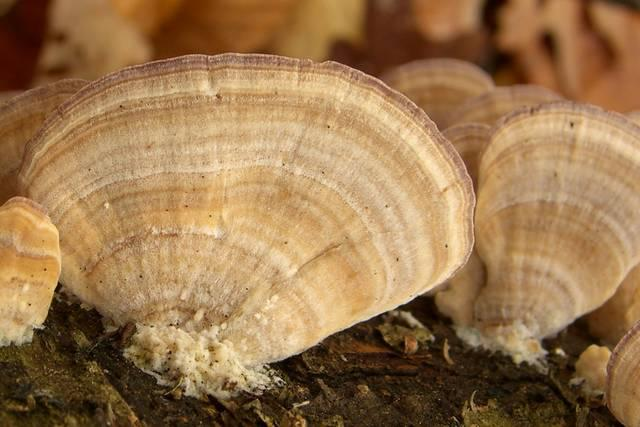Non-edible Mushroom: (0, 50, 477, 402), (433, 97, 639, 370)
